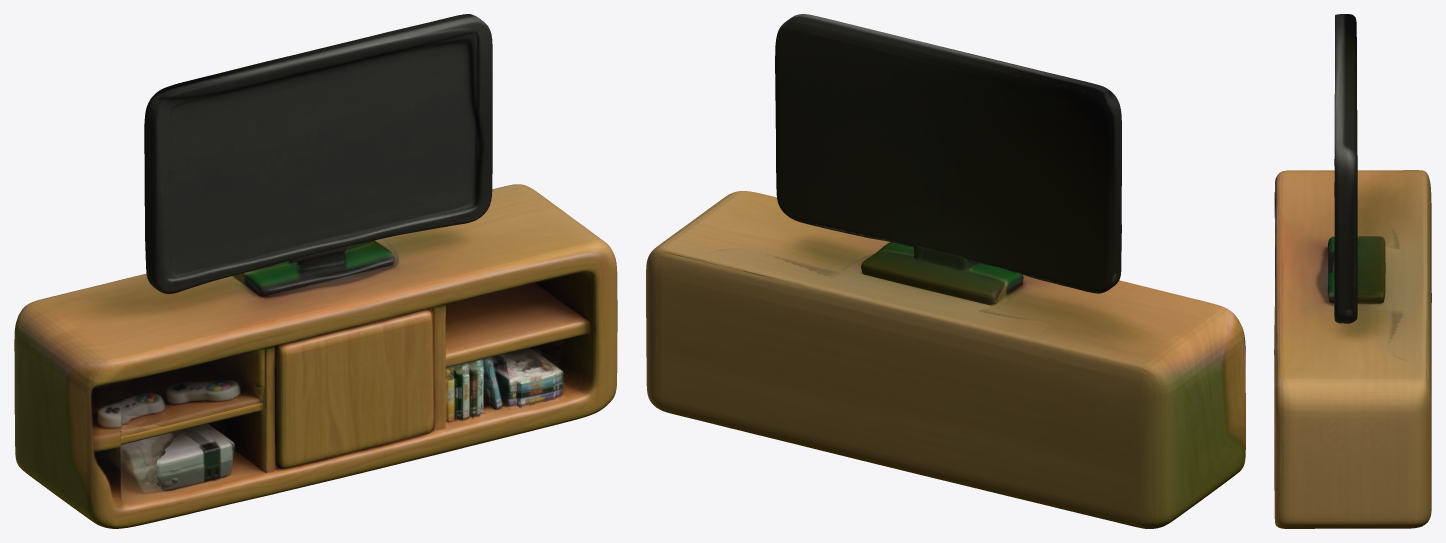
Rendered from tv_set.glb.
The picture shows the model from 3 angles, left to right: view 1: azimuth 30°, elevation 25°; view 2: azimuth 150°, elevation 25°; view 3: azimuth 270°, elevation 25°; orthographic projection. The views are drawn at different scales.
Parts seen in each view (by area): view 1: geometry_0; view 2: geometry_0; view 3: geometry_0.
Part boxes in pixels (x1,y1,x2,y2): geometry_0: (14, 14, 617, 528); geometry_0: (646, 14, 1245, 528); geometry_0: (1274, 14, 1431, 528).
Bounding box in the file's own units: 0.998 × 0.7126 × 0.2919.
Materials: 1 (1 with a texture image).
